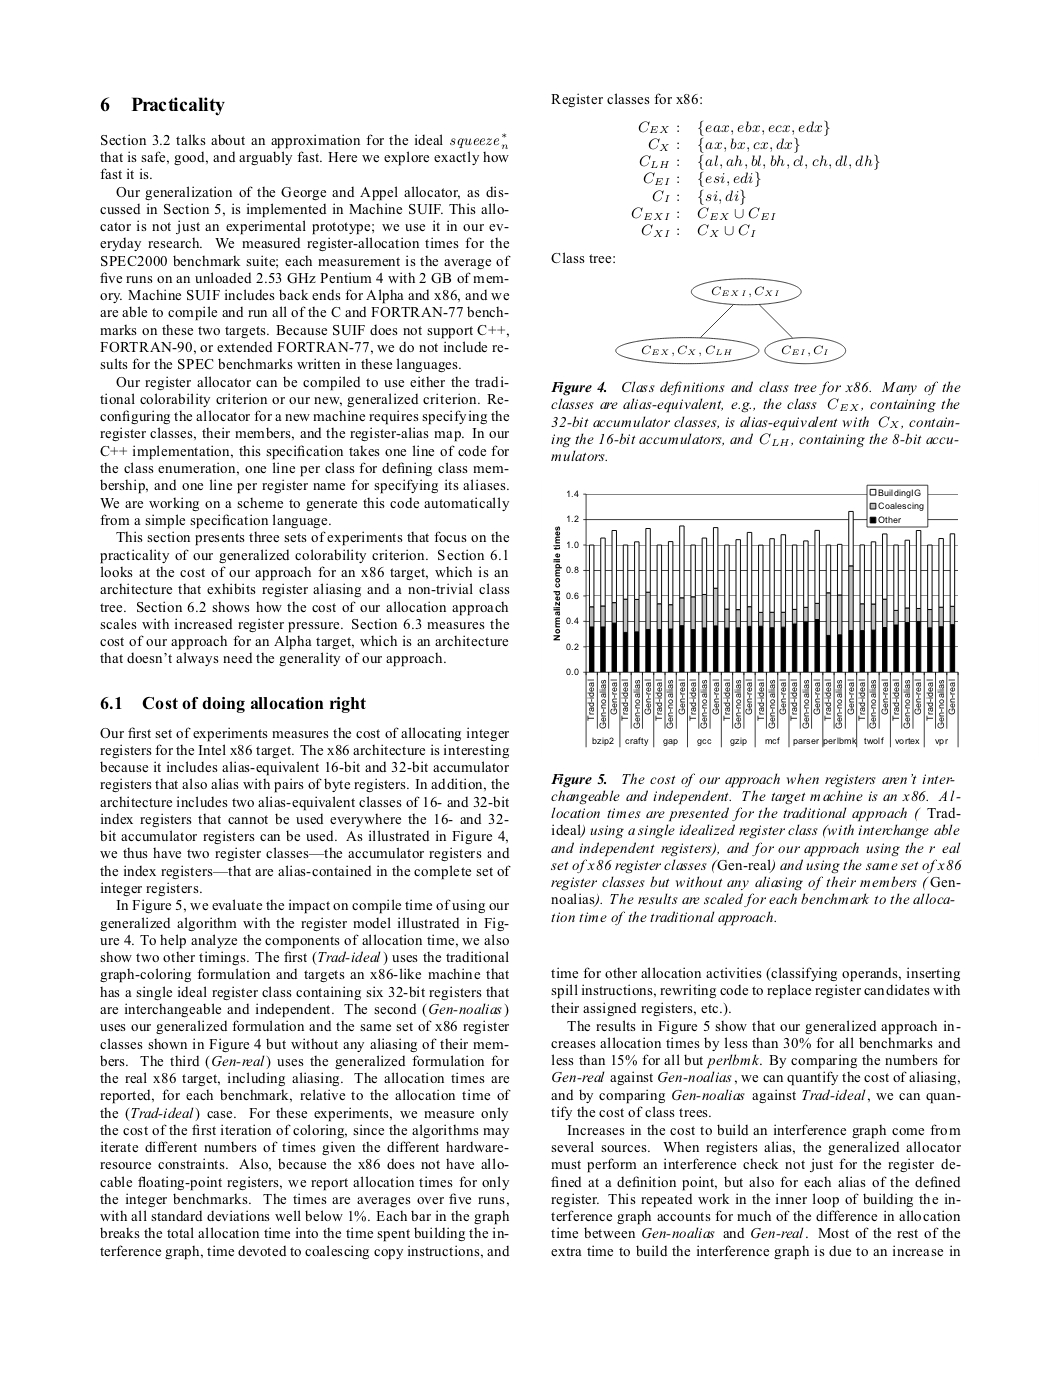figure: (553, 483, 958, 748), (615, 277, 846, 366)
formula: (639, 154, 879, 169), (637, 120, 829, 135), (648, 137, 799, 152), (643, 171, 760, 186), (641, 222, 755, 237), (631, 207, 775, 220), (652, 189, 744, 204)
